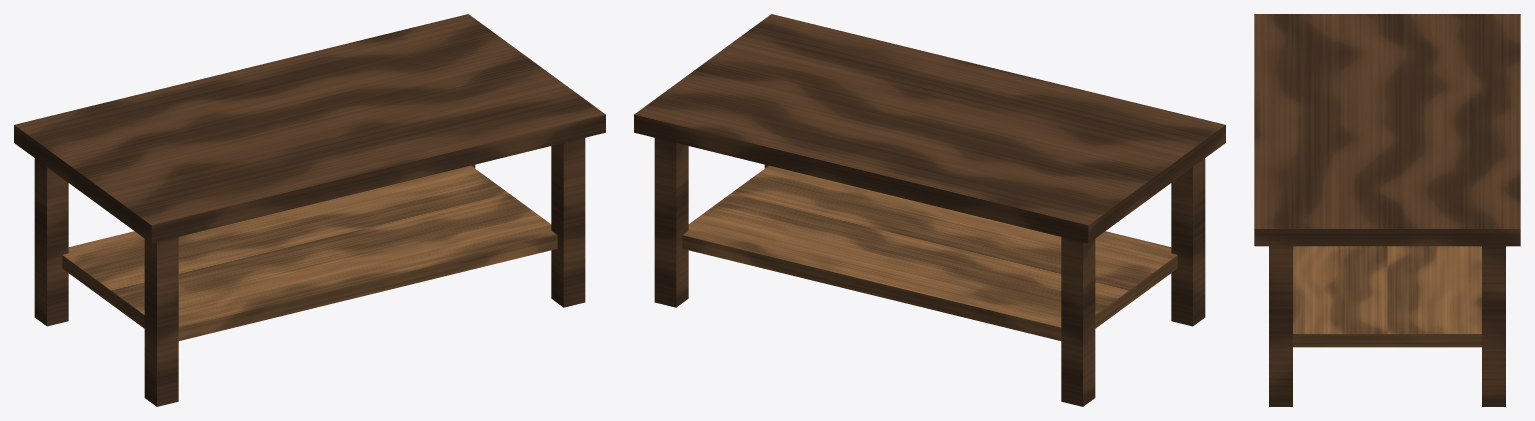
The model's file is coffee_table.fbx.
The picture shows the model from 3 angles, left to right: view 1: azimuth 30°, elevation 25°; view 2: azimuth 150°, elevation 25°; view 3: azimuth 270°, elevation 25°; orthographic projection. The views are drawn at different scales.
Parts seen in each view (by area): view 1: coffee_table; view 2: coffee_table; view 3: coffee_table.
Part boxes in pixels (x1,y1,x2,y2): coffee_table: [14, 14, 605, 406]; coffee_table: [634, 14, 1225, 406]; coffee_table: [1254, 14, 1520, 406].
Bounding box in the file's own units: 105 × 42 × 55.
